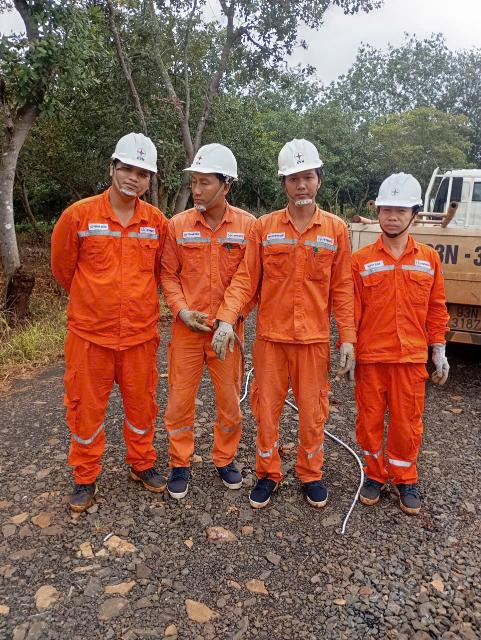gloves: (207, 318, 253, 369), (168, 301, 223, 339), (326, 343, 363, 382), (436, 334, 455, 393)
helmet: (258, 132, 336, 186), (184, 128, 245, 192), (371, 158, 426, 222), (113, 122, 165, 188)
shoes: (239, 458, 285, 510), (386, 476, 436, 520), (209, 450, 256, 491), (67, 479, 119, 514), (294, 471, 338, 512), (122, 456, 168, 493), (161, 451, 191, 497), (357, 478, 382, 512)
